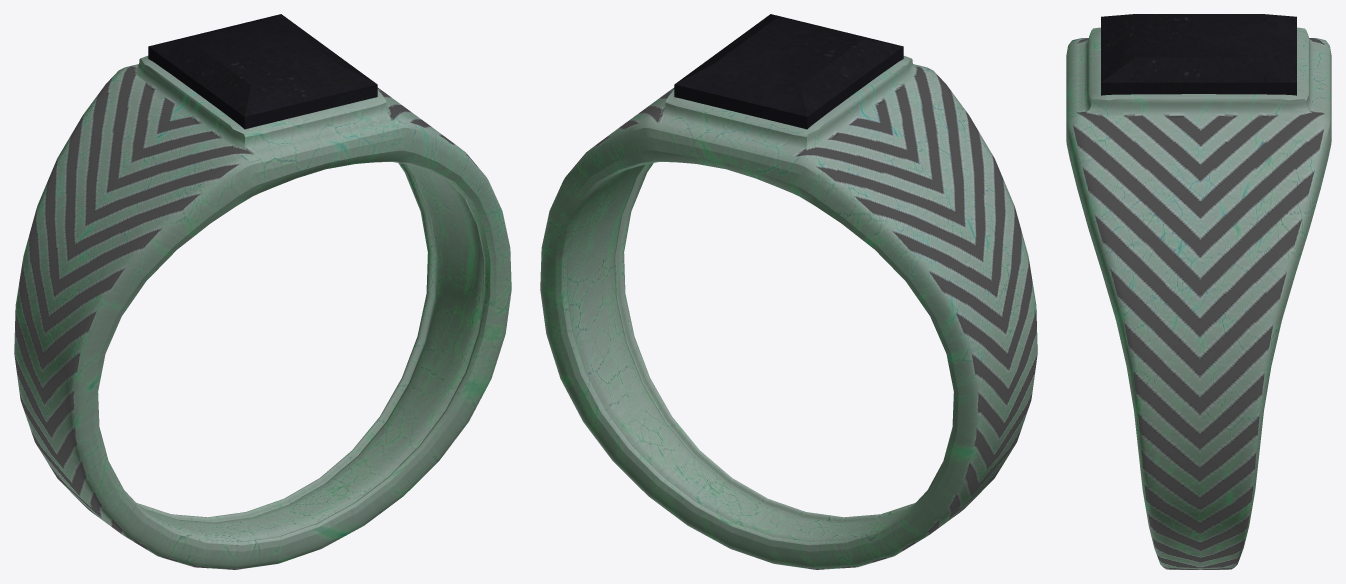
Rendered from ethreal_ring.glb.
The picture shows the model from 3 angles, left to right: view 1: azimuth 30°, elevation 25°; view 2: azimuth 150°, elevation 25°; view 3: azimuth 270°, elevation 25°; orthographic projection.
Visible parts, largest first — view 1: Ring_Black; view 2: Ring_Black; view 3: Ring_Black.
Part boxes in pixels (bbox=[...]): Ring_Black: bbox=[14, 14, 511, 569]; Ring_Black: bbox=[540, 14, 1037, 569]; Ring_Black: bbox=[1066, 14, 1331, 569].
Size of the model in its own units: 1.95 by 2.11 by 0.996.
1 material, 1 textured.
